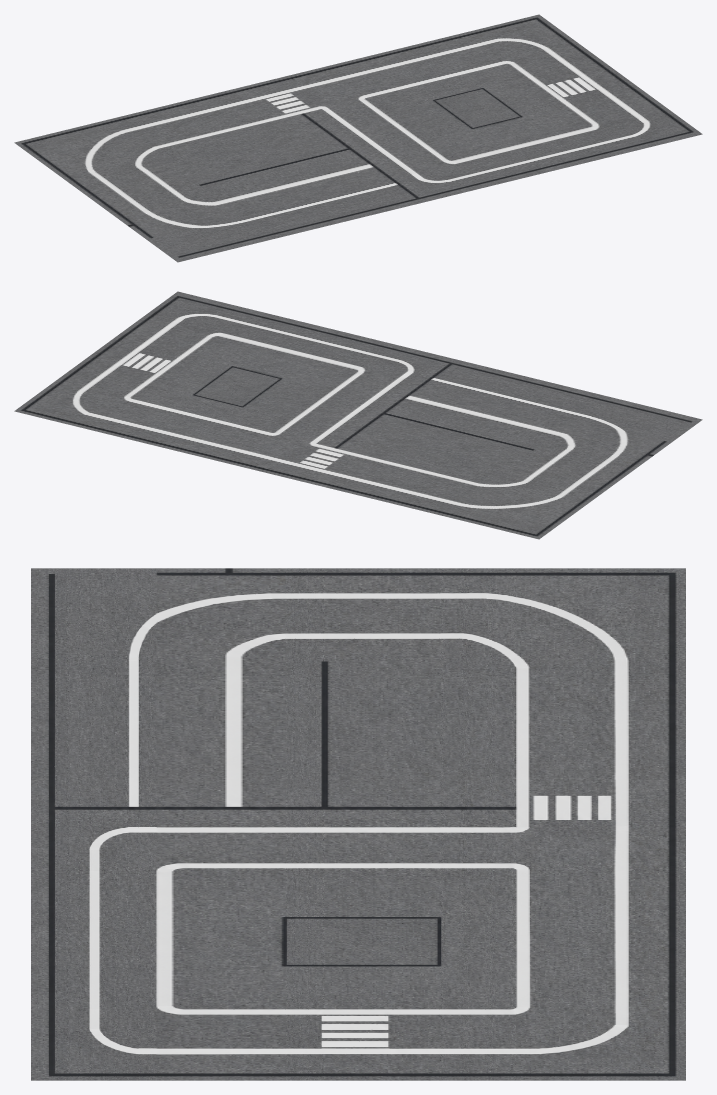
Rendered from ground.dae.
3 renders of one model, top to bottom at view 1: azimuth 30°, elevation 25°; view 2: azimuth 150°, elevation 25°; view 3: azimuth 270°, elevation 25°, orthographic. The views are drawn at different scales.
Parts seen in each view (by area): view 1: ground; view 2: ground; view 3: ground.
Part boxes in pixels (x1=…): ground: x1=14, y1=14, x2=702, y2=262; ground: x1=14, y1=291, x2=702, y2=539; ground: x1=31, y1=568, x2=685, y2=1080.
Bounding box in the file's own units: 2.36 × 1.28 × 0.
1 material, 1 textured.
